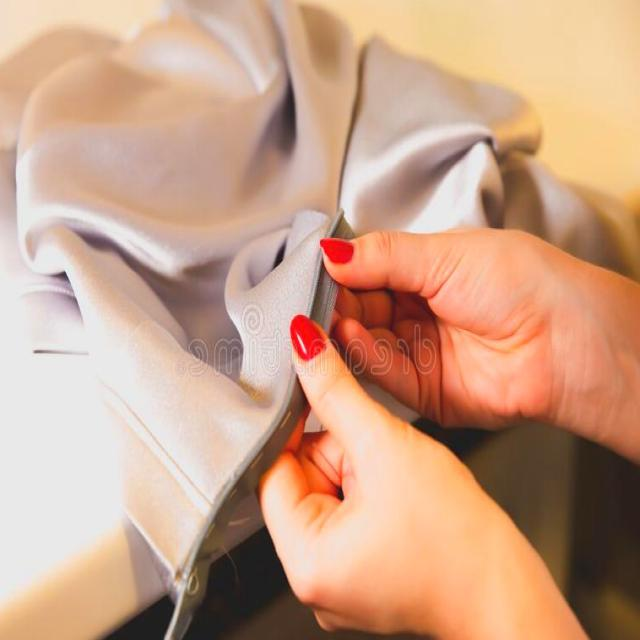clothes: (0, 0, 314, 518)
